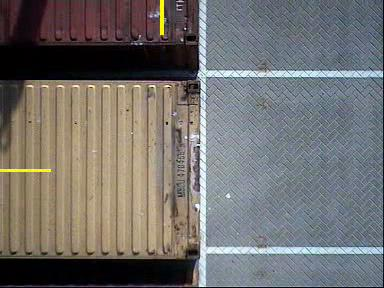groundmarker_2: (200, 53, 238, 112), (196, 204, 233, 263)
